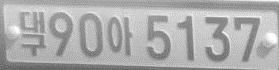0: (77, 12, 104, 57)
1: (174, 15, 201, 60)
3: (204, 15, 230, 62)
5: (145, 14, 171, 59)
7: (233, 16, 260, 61)
9: (47, 11, 74, 56)
대구_V: (19, 10, 47, 57)
아: (106, 15, 133, 56)
